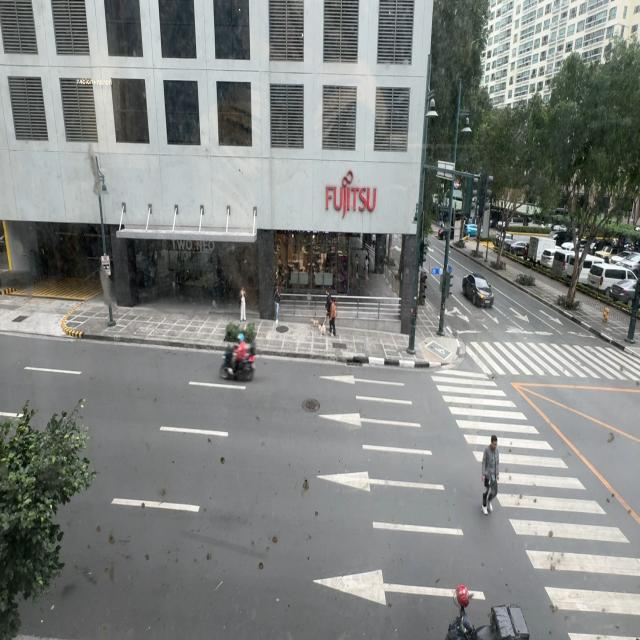jaywalking: (482, 434, 499, 514)
pedestrain: (324, 289, 339, 335), (239, 286, 247, 323), (273, 284, 280, 324)
